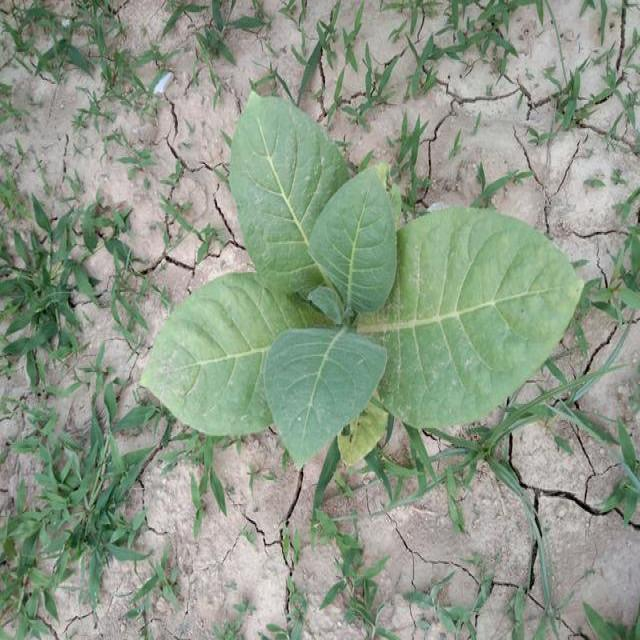crop: (132, 92, 587, 490)
